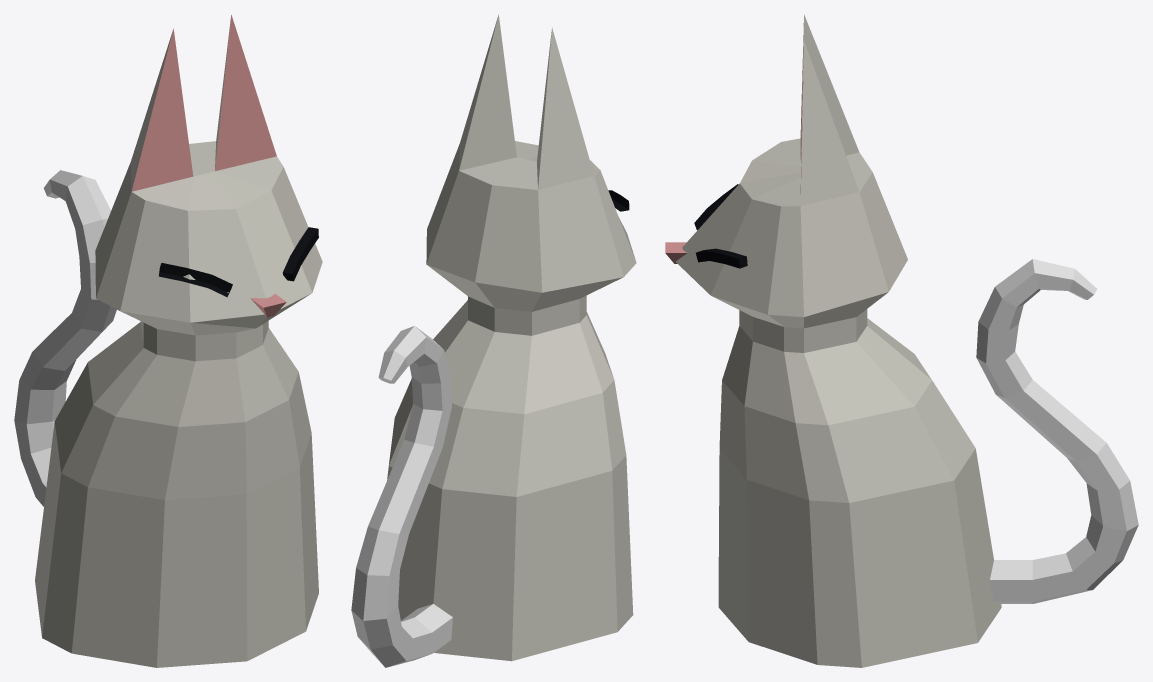
File: cat_white.fbx
3 views of the same model, side by side, from view 1: azimuth 30°, elevation 25°; view 2: azimuth 150°, elevation 25°; view 3: azimuth 270°, elevation 25° (orthographic). The views are drawn at different scales.
Parts seen in each view (by area): view 1: cat, tail; view 2: cat, tail; view 3: cat, tail.
Part boxes in pixels (bbox=[...]): cat: bbox=[35, 15, 322, 667]; tail: bbox=[14, 170, 116, 506]; cat: bbox=[387, 14, 636, 661]; tail: bbox=[351, 326, 452, 667]; cat: bbox=[665, 14, 1001, 667]; tail: bbox=[976, 259, 1138, 603].
Bounding box in the file's own units: 0.53 × 1.18 × 0.8752.
